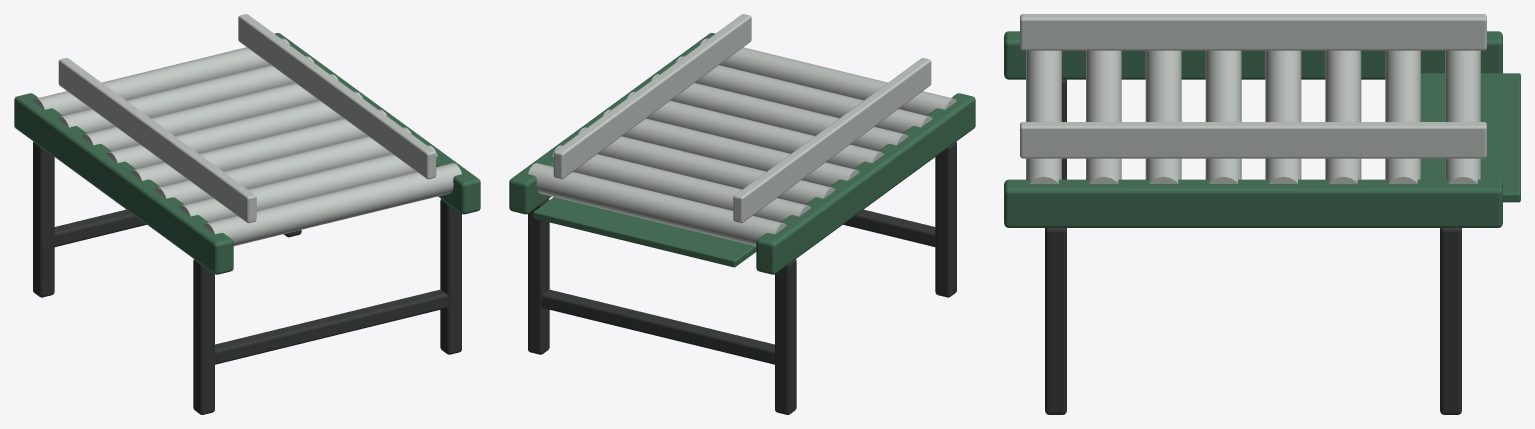
Rendered from sawmill-and-timber-yard-edger-infeed-table-153c96a5__31176.glb.
3 views of the same model, side by side, from view 1: azimuth 30°, elevation 25°; view 2: azimuth 150°, elevation 25°; view 3: azimuth 270°, elevation 25° (orthographic). The views are drawn at different scales.
Parts seen in each view (by area): view 1: edger-infeed-table; view 2: edger-infeed-table; view 3: edger-infeed-table.
Boxes of the visible parts, left/top/right/bottom form: edger-infeed-table: left=14, top=14, right=480, bottom=414; edger-infeed-table: left=509, top=14, right=975, bottom=414; edger-infeed-table: left=1004, top=14, right=1520, bottom=414.
Size of the model in its own units: 0.95 by 0.74 by 1.29.
